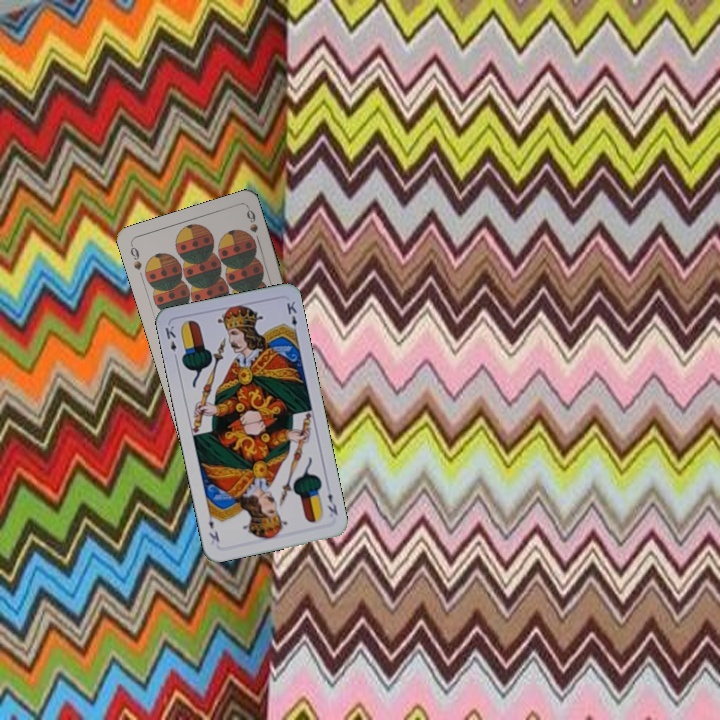EK: (161, 321, 180, 362), (323, 490, 340, 518)
S9: (126, 240, 144, 273)
